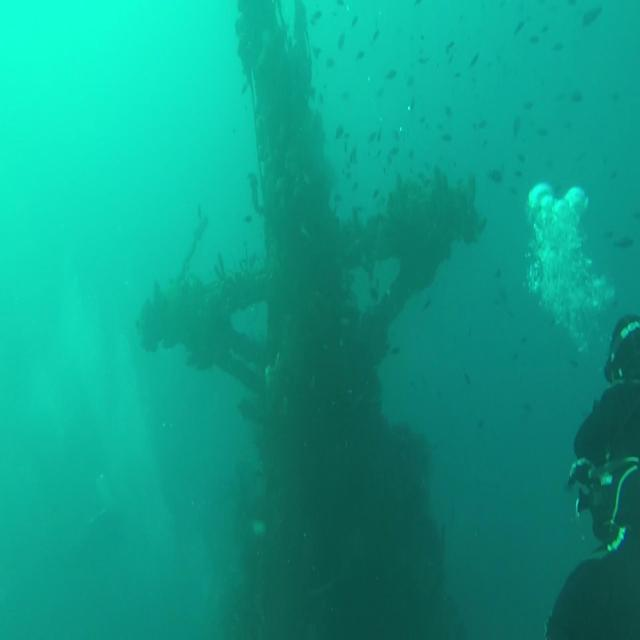human: (543, 311, 639, 638)
